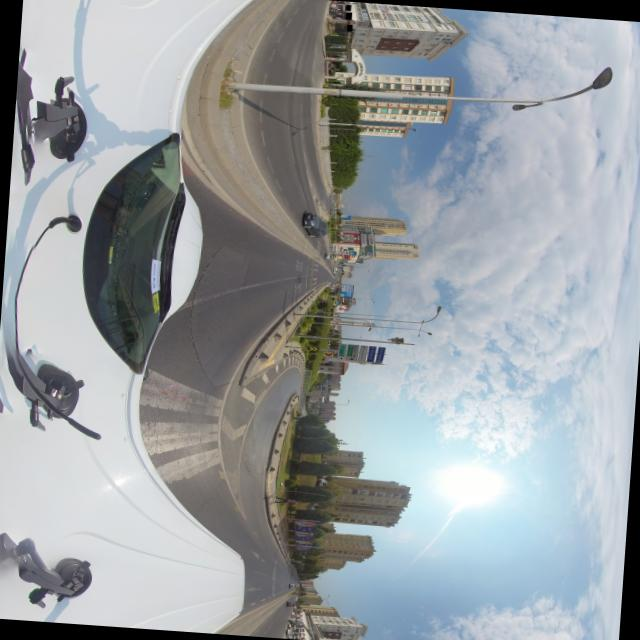SignStore: (344, 12, 350, 20), (344, 4, 349, 11), (346, 24, 351, 31)
